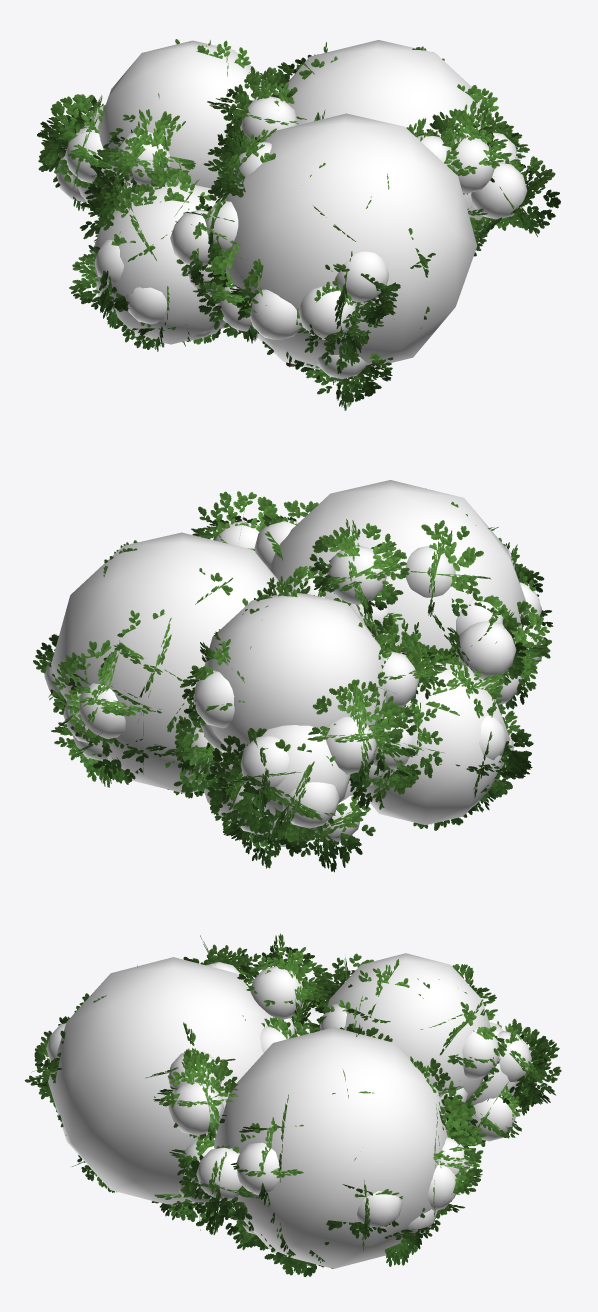
3 views of the same model, one above another, from view 1: azimuth 30°, elevation 25°; view 2: azimuth 150°, elevation 25°; view 3: azimuth 270°, elevation 25° (orthographic). The views are drawn at different scales.
Parts seen in each view (by area): view 1: zz_bw_shadow_LOD0, zz_bw_leaves_LOD0; view 2: zz_bw_shadow_LOD0, zz_bw_leaves_LOD0; view 3: zz_bw_shadow_LOD0, zz_bw_leaves_LOD0.
Part boxes in pixels (left/top/right/bottom): zz_bw_shadow_LOD0: left=55, top=40, right=527, bottom=379; zz_bw_leaves_LOD0: left=37, top=39, right=560, bottom=410; zz_bw_shadow_LOD0: left=44, top=480, right=543, bottom=846; zz_bw_leaves_LOD0: left=33, top=491, right=553, bottom=872; zz_bw_shadow_LOD0: left=46, top=953, right=531, bottom=1268; zz_bw_leaves_LOD0: left=24, top=933, right=561, bottom=1276.
Size of what is drawn, in the model's own units: 3.12 by 2.14 by 3.46.
Materials: 3 (2 with a texture image).
